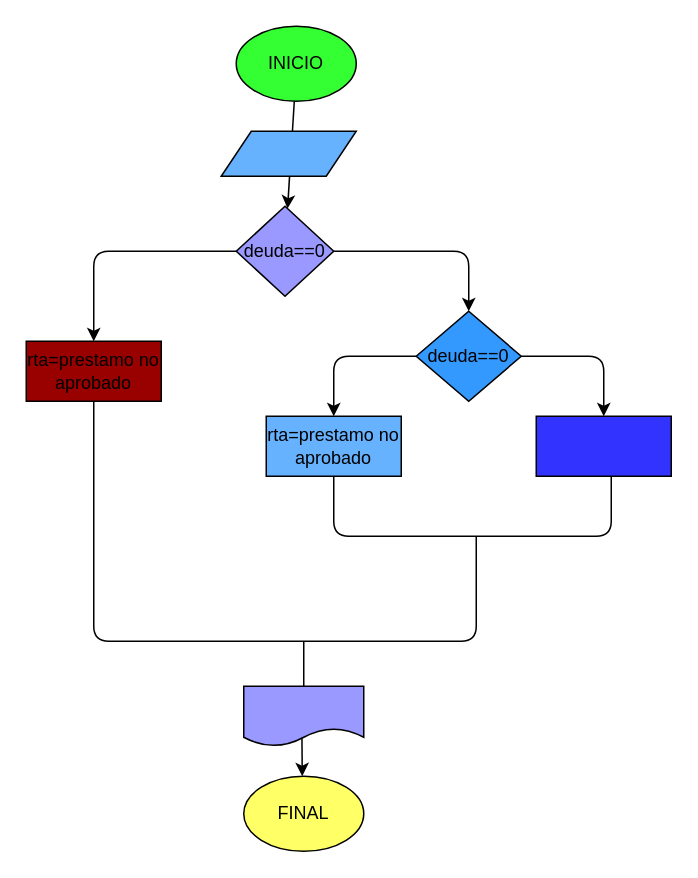
This 698x878 diagram has some shape labels left out. Each missing label, with the centre of its shape:
ing, deuda: pixel 288 153
rta: pixel 303 715
rta=prestamo aprobado: pixel 603 445
